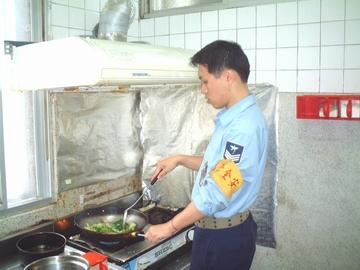person: (144, 40, 269, 270)
